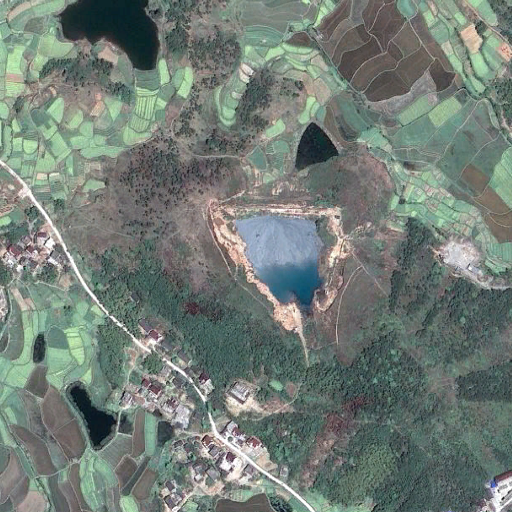tp: (233, 209, 330, 314)
